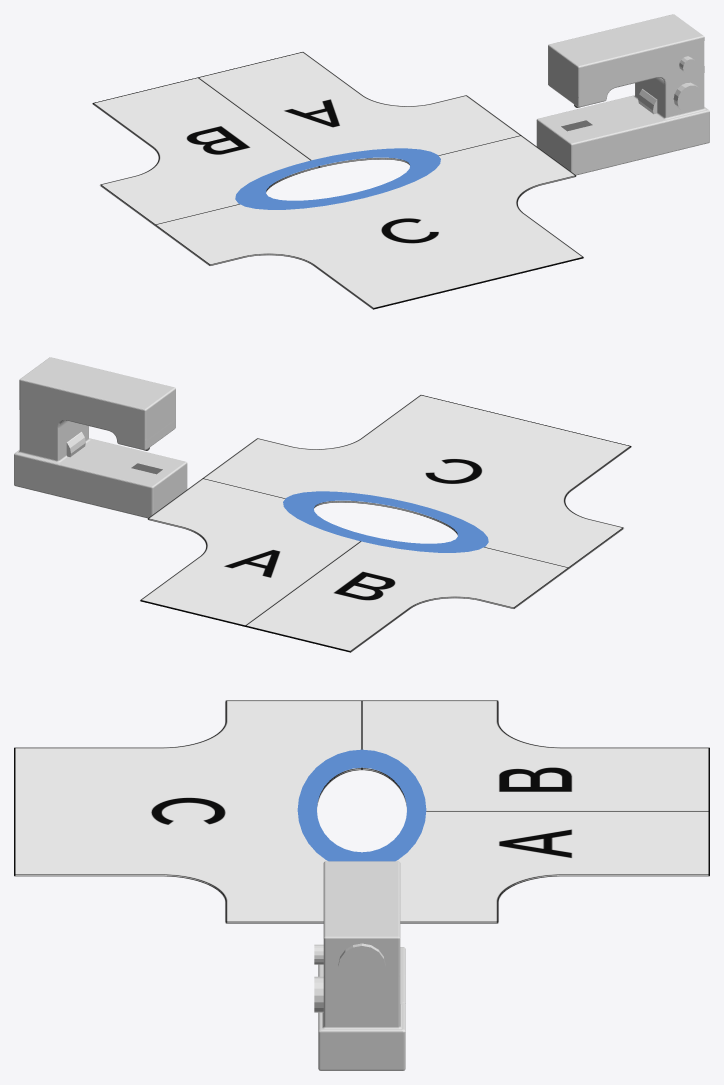
Rendered from sewing_step_6_with_sewing_machine.glb.
3 views of the same model, one above another, from view 1: azimuth 30°, elevation 25°; view 2: azimuth 150°, elevation 25°; view 3: azimuth 270°, elevation 25° (orthographic). The views are drawn at different scales.
Visible parts, largest first — view 1: sewing step 6.003, sewing mchine.001, foldy bit.scaled.001, Cylinder.003; view 2: sewing step 6.003, sewing mchine.001, foldy bit.scaled.001; view 3: sewing step 6.003, sewing mchine.001, foldy bit.scaled.001, Cylinder.005.
Part boxes in pixels (x1,y1,x2,y2): sewing step 6.003: [92, 52, 583, 309]; sewing mchine.001: [536, 14, 709, 175]; foldy bit.scaled.001: [235, 148, 440, 209]; Cylinder.003: [673, 82, 702, 112]; sewing step 6.003: [140, 395, 631, 652]; sewing mchine.001: [14, 357, 187, 518]; foldy bit.scaled.001: [283, 491, 488, 552]; sewing step 6.003: [14, 700, 709, 923]; sewing mchine.001: [318, 861, 405, 1070]; foldy bit.scaled.001: [297, 749, 426, 861]; Cylinder.005: [338, 943, 385, 988].
Bounding box in the file's own units: 5.54 × 1.05 × 5.
Materials: 4 (1 with a texture image).
